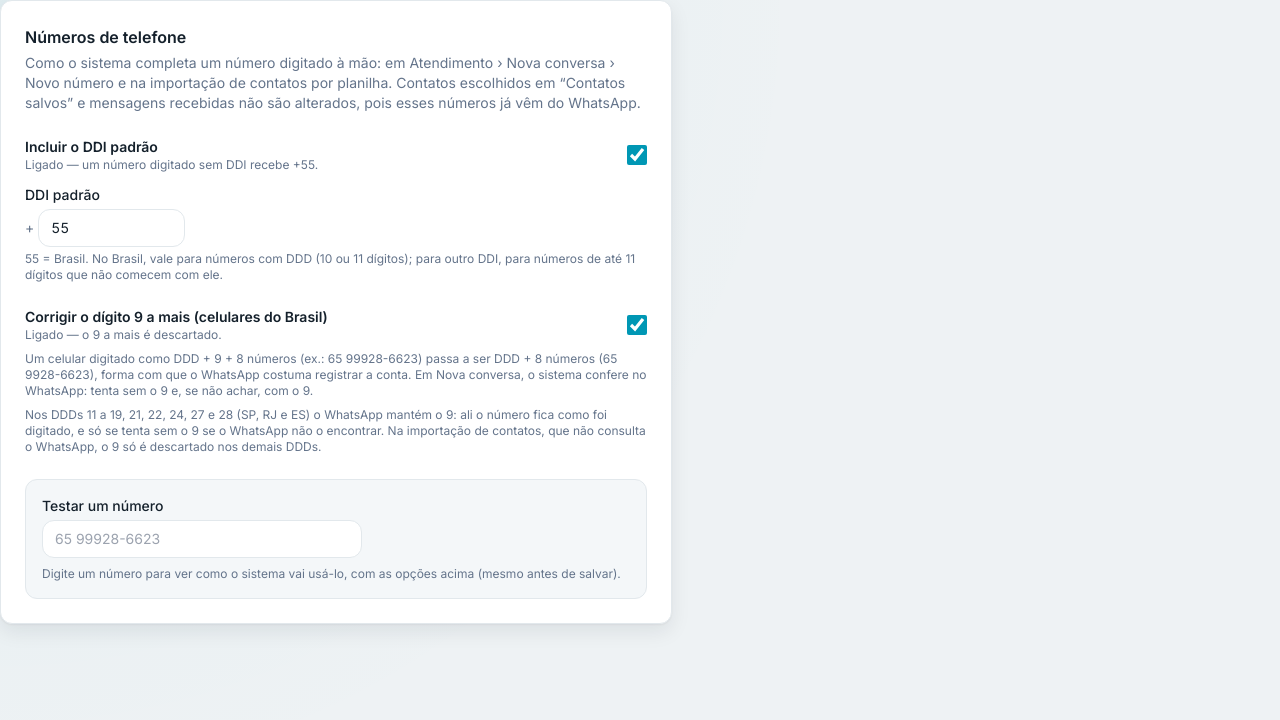
Test: Configurações › Números de telefone › testa um número com as opções do formulário, mesmo antes de salvar
This screenshot has width=1280, height=720.
Expected: the switch labelled "Incluir o DDI padrão" is shown, [627,145,647,165]
Type "65999286623" into the field labelled "Testar um número" at point(202, 539), box [42,520,362,558]
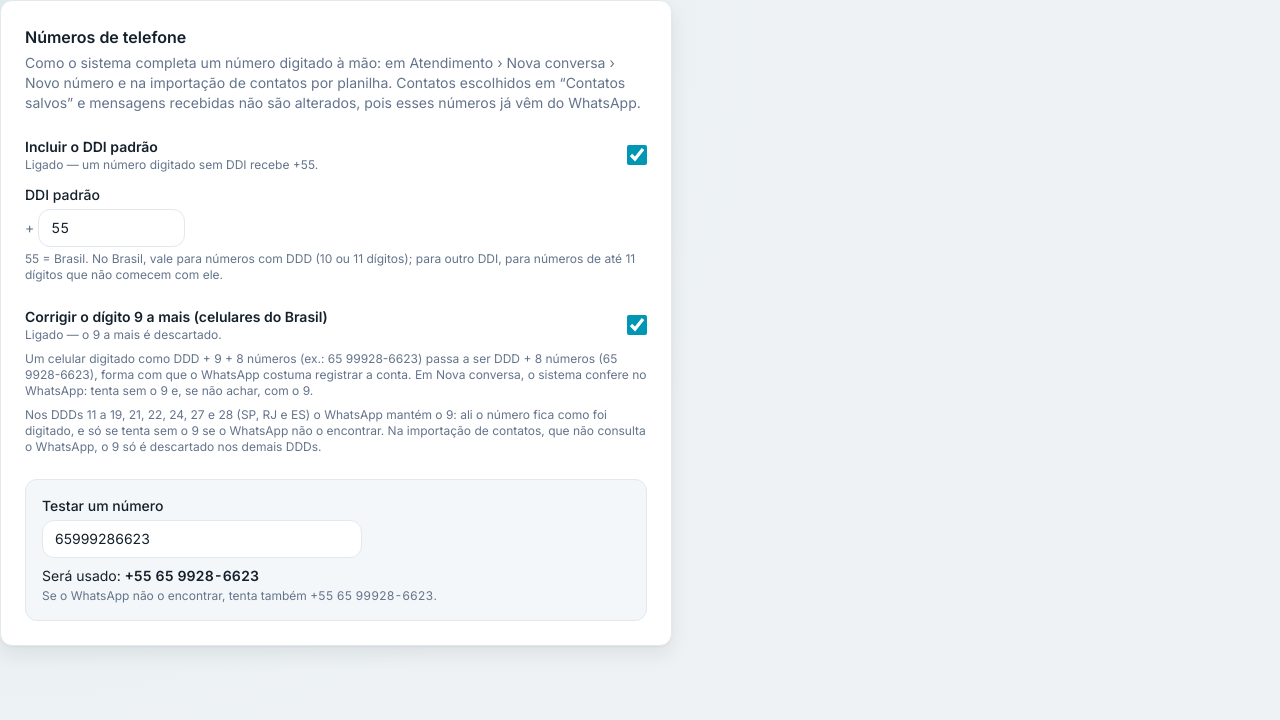
Expected: the text "+55 65 9928-6623" is shown, [125,567,259,584]
Expected: the text "tenta também" shows "+55 65 99928-6623", [310,588,433,603]
Click the switch labelled "Corrigir o dígito 9" at point(637, 325), box [627,315,647,335]
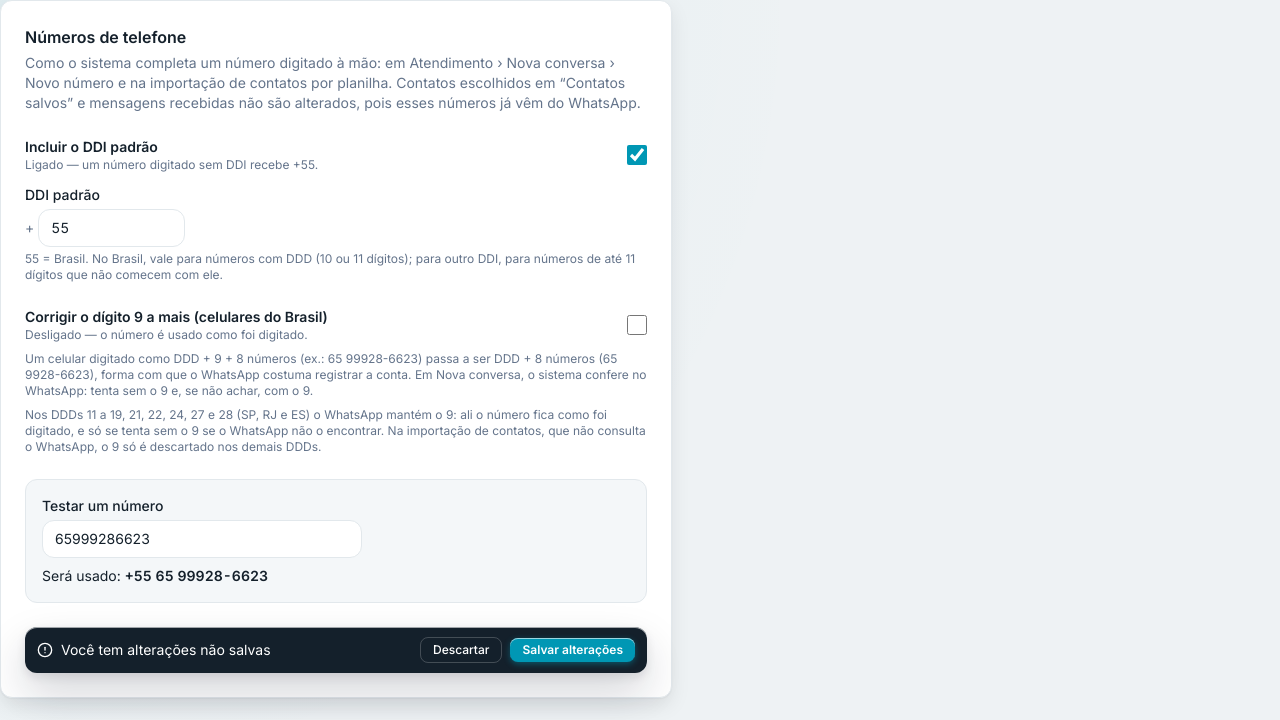
Expected: the text "+55 65 99928-6623" is shown, [125,567,268,584]
Expected: the text "tenta também" is gone
